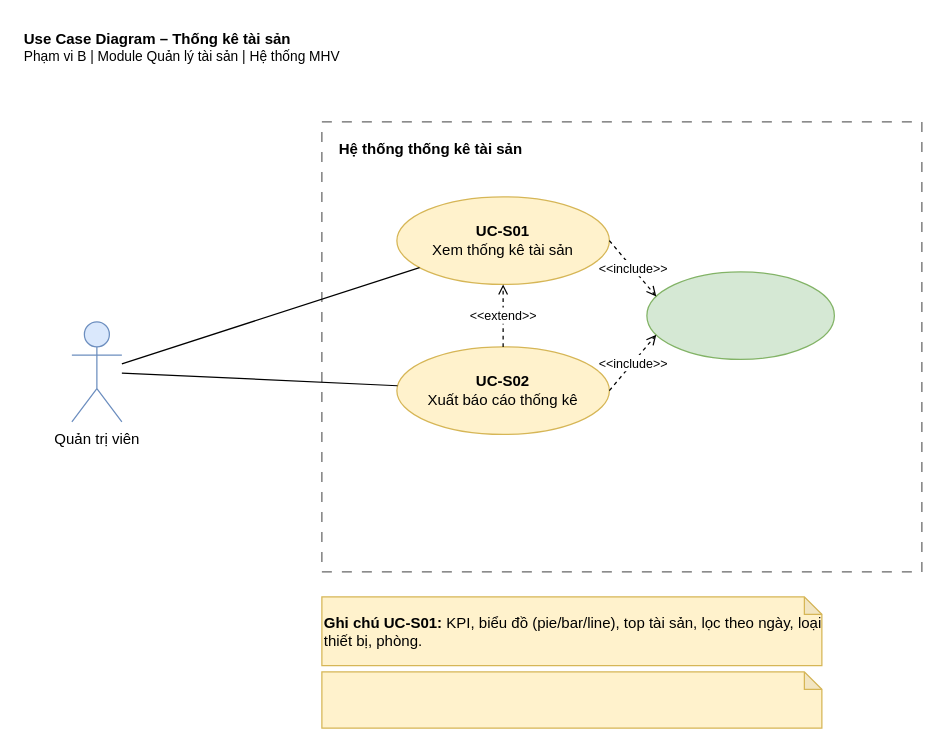
The diagram is 944 pixels wide and 750 high, and some of its shapes have lost their labels. The centre of each missing label's shape, as x and y in pixels:
"Ghi chú UC-S02: Xuất file Excel từ cùng nguồn dữ liệu thống kê." belongs at (x=571, y=699).
"UC-S03 Đăng nhập hệ thống" belongs at (x=740, y=315).
